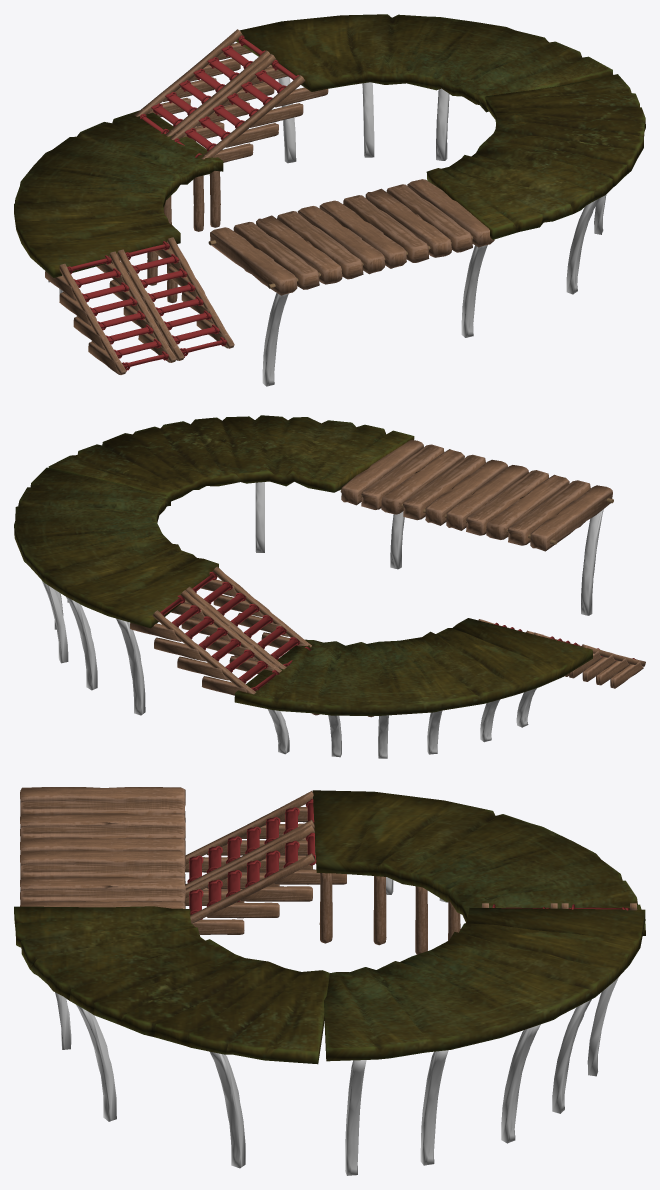
Rendered from SM_double_stair_structure.fbx.
3 views of the same model, one above another, from view 1: azimuth 30°, elevation 25°; view 2: azimuth 150°, elevation 25°; view 3: azimuth 270°, elevation 25° (orthographic). The views are drawn at different scales.
Parts seen in each view (by area): view 1: double_stair_structure; view 2: double_stair_structure; view 3: double_stair_structure.
Boxes of the visible parts, box(x1,y1,x2,y2) form: double_stair_structure: box(14, 14, 645, 386); double_stair_structure: box(14, 415, 645, 758); double_stair_structure: box(14, 787, 645, 1175).
Size of the model in its own units: 1897 by 418 by 1549.
